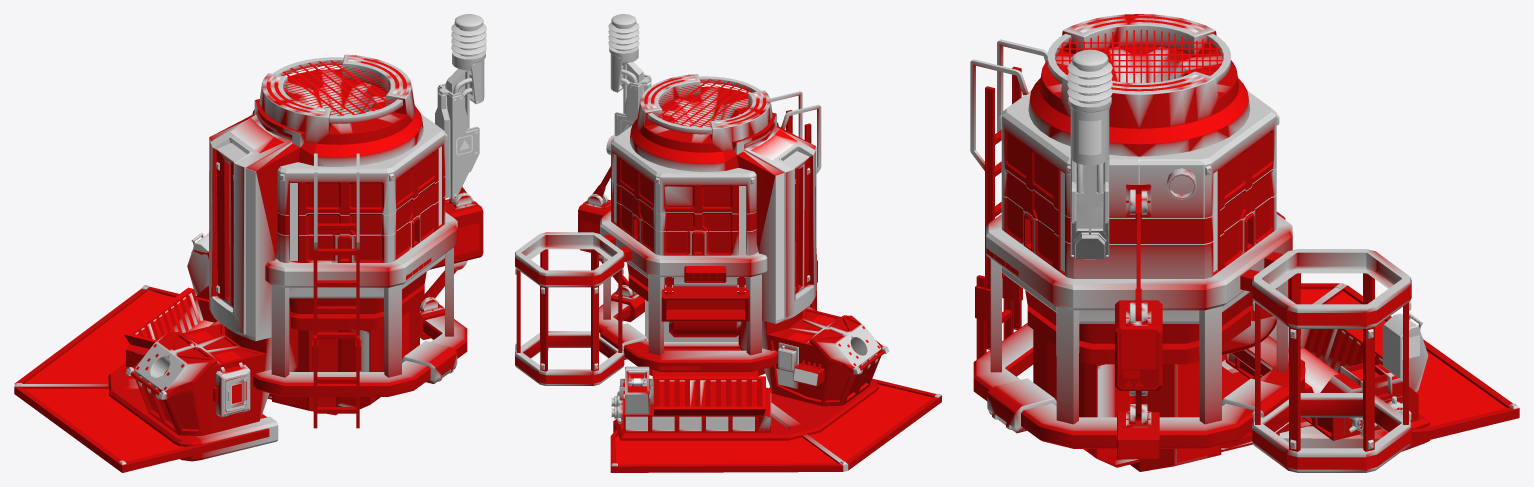
Rendered from GeneratorBiomass_static.fbx.
3 renders of one model, left to right at view 1: azimuth 30°, elevation 25°; view 2: azimuth 150°, elevation 25°; view 3: azimuth 270°, elevation 25°, orthographic. The views are drawn at different scales.
Visible parts, largest first — view 1: GeneratorBiomass_static; view 2: GeneratorBiomass_static; view 3: GeneratorBiomass_static.
Boxes of the visible parts, x1=… form: GeneratorBiomass_static: x1=14, y1=14, x2=486, y2=472; GeneratorBiomass_static: x1=515, y1=14, x2=941, y2=472; GeneratorBiomass_static: x1=970, y1=14, x2=1519, y2=472.
Bounding box in the file's own units: 726 × 672 × 713.
